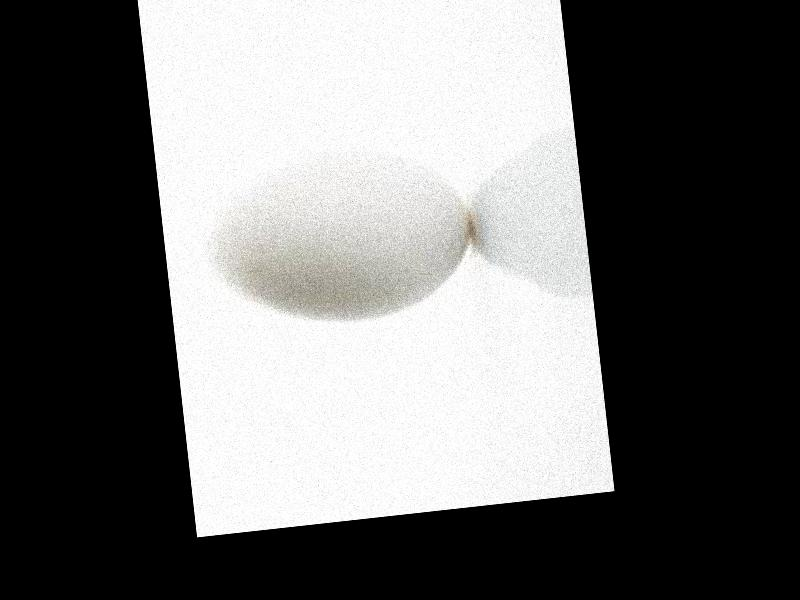Eggs: (198, 143, 479, 336)
